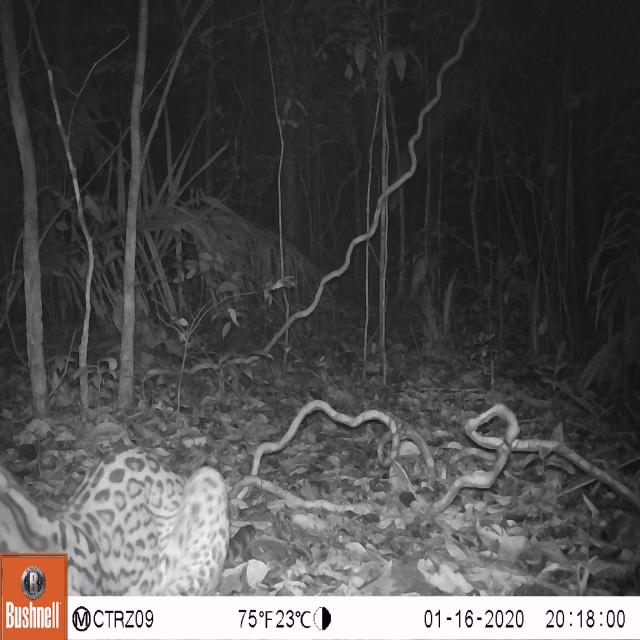Ocelote: (0, 440, 245, 598)
